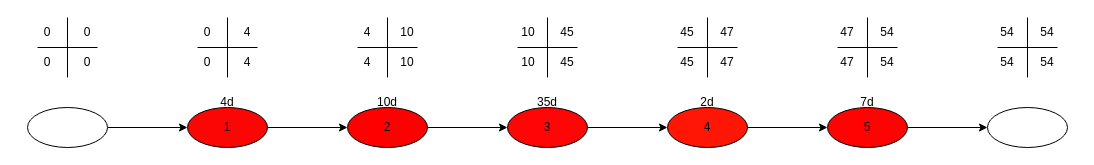
Some shapes in this 1094 by 165 pixel diagram are drawn without their labels. The centre of each missing label's shape, as x and y in pixels:
Final: the point at 1027,127
Inicio: the point at 67,127
